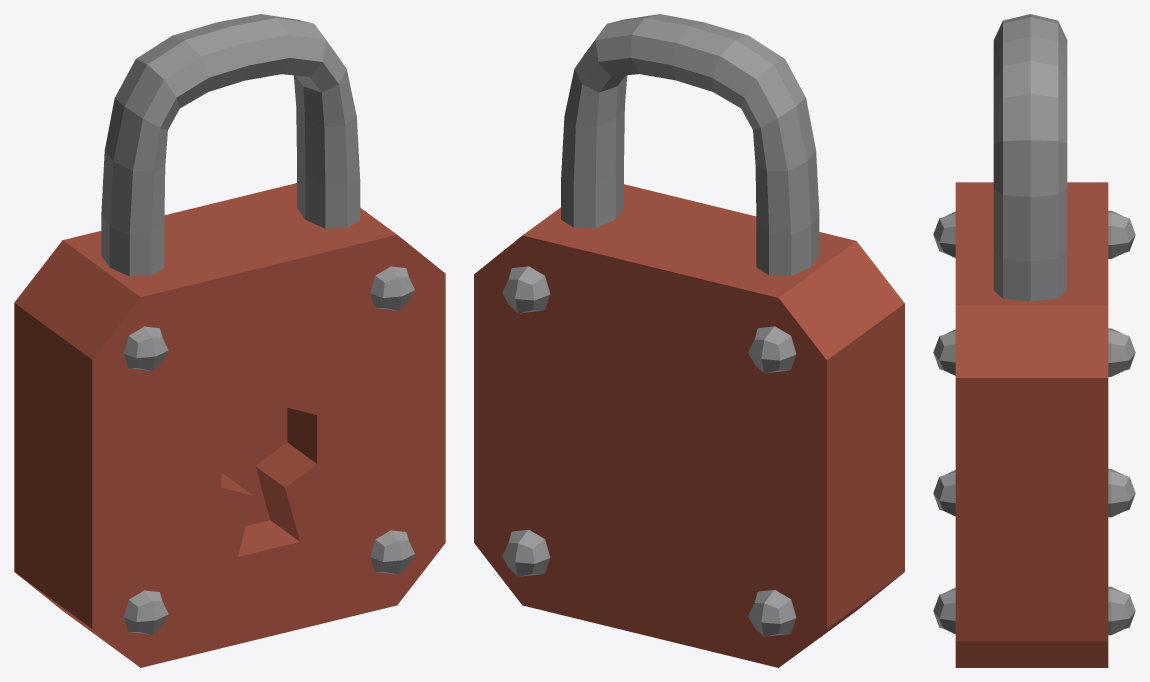
File: lock_red.glb
The picture shows the model from 3 angles, left to right: view 1: azimuth 30°, elevation 25°; view 2: azimuth 150°, elevation 25°; view 3: azimuth 270°, elevation 25°; orthographic projection. The views are drawn at different scales.
Visible parts, largest first — view 1: Padlock; view 2: Padlock; view 3: Padlock.
Boxes of the visible parts, x1,y1,x2,y2 form: Padlock: [14, 14, 445, 667]; Padlock: [474, 14, 904, 667]; Padlock: [933, 14, 1135, 667].
Bounding box in the file's own units: 0.6153 × 0.9686 × 0.3117.
